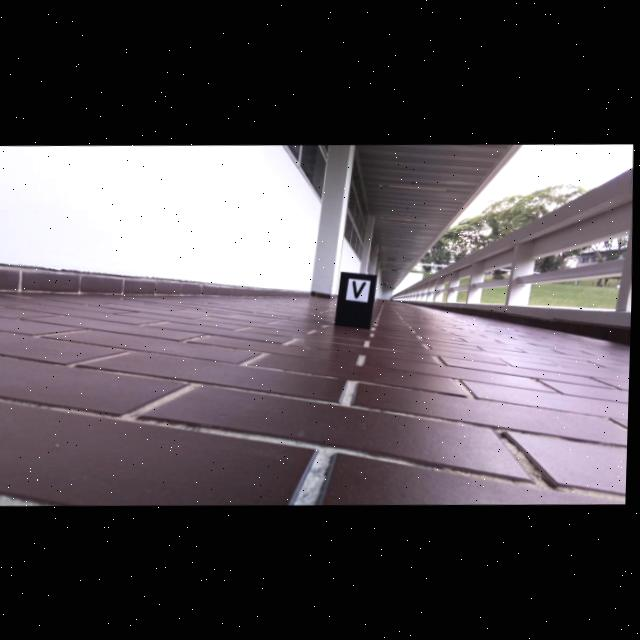V: (354, 279, 367, 296)
